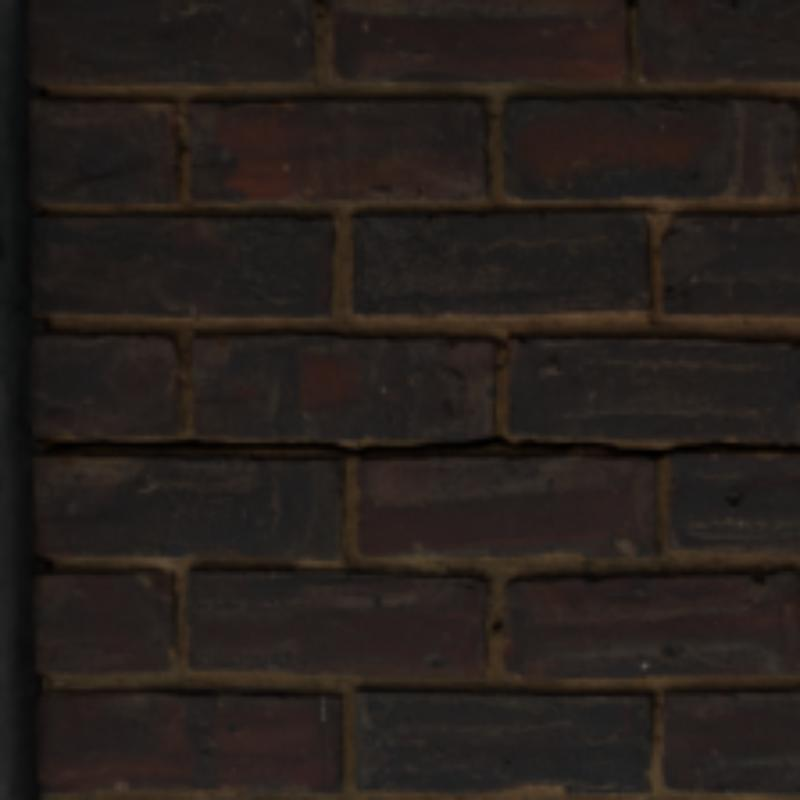pothole: (44, 436, 796, 457)
